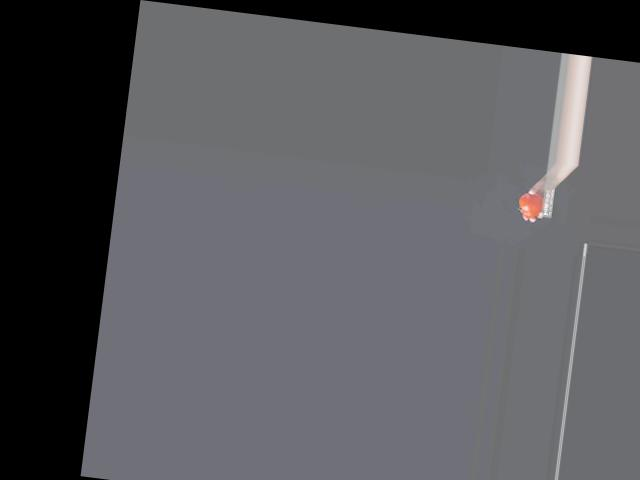tomato: (517, 191, 544, 220)
